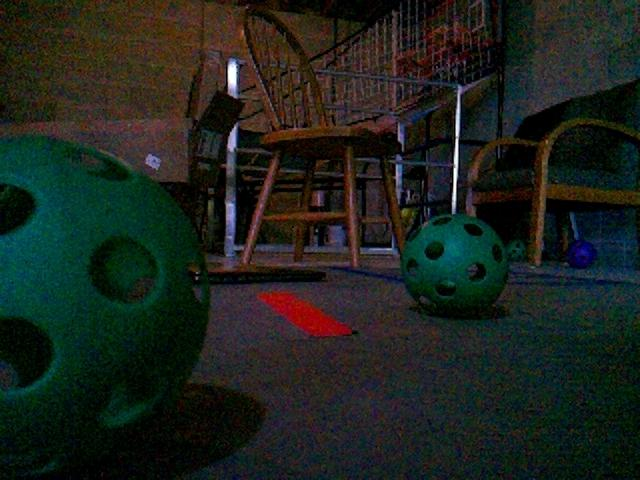Green: (0, 135, 212, 475), (399, 212, 510, 316), (505, 238, 526, 261)
Purple: (566, 239, 598, 268)
